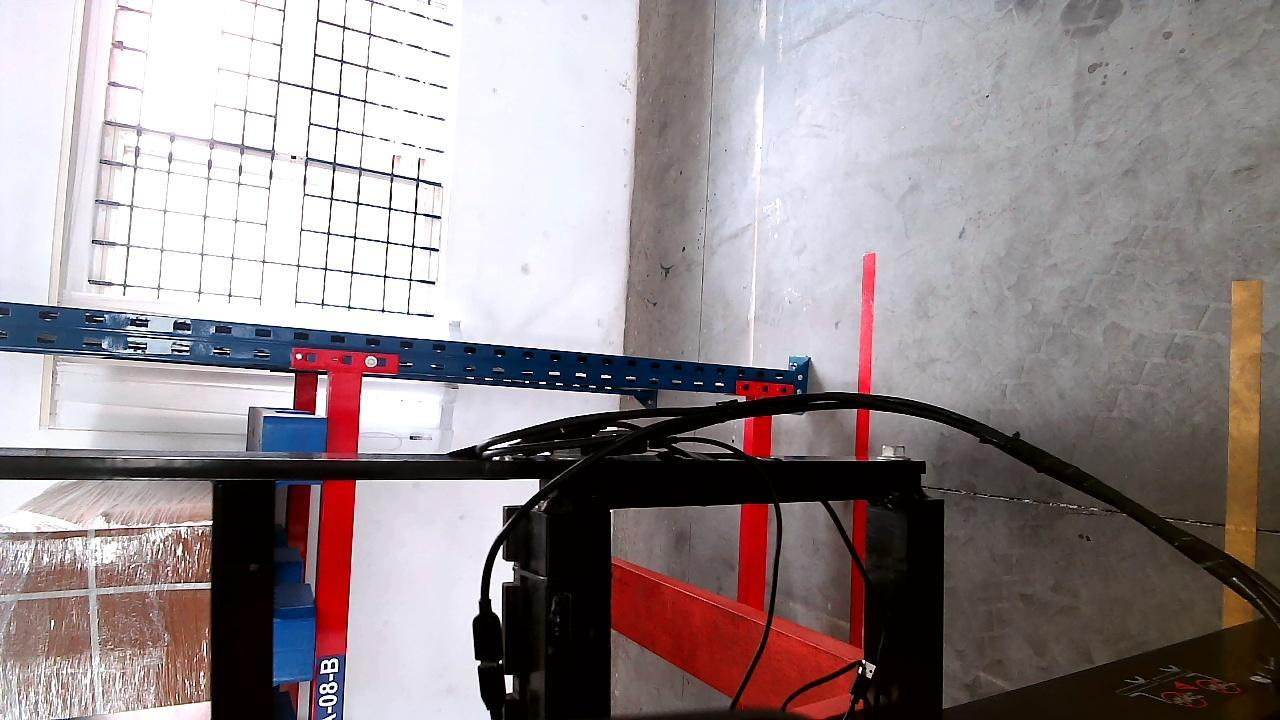red_line: (851, 251, 878, 647)
yellow_line: (1223, 281, 1258, 622)
